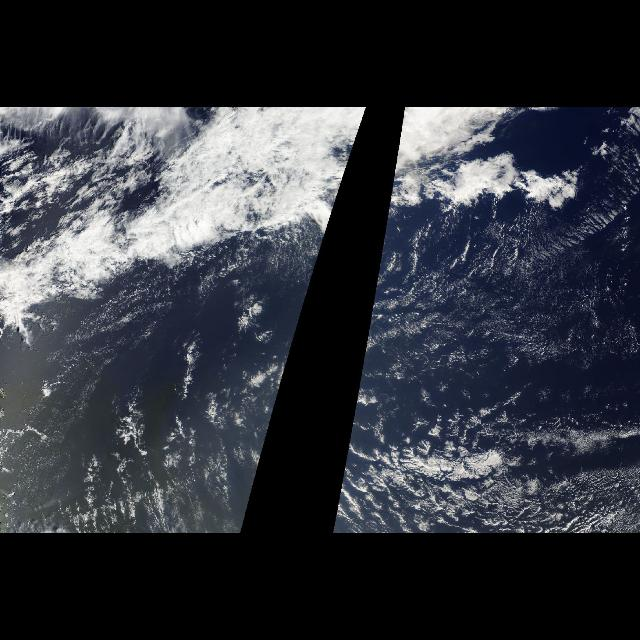Sugar: (394, 214, 626, 354)
